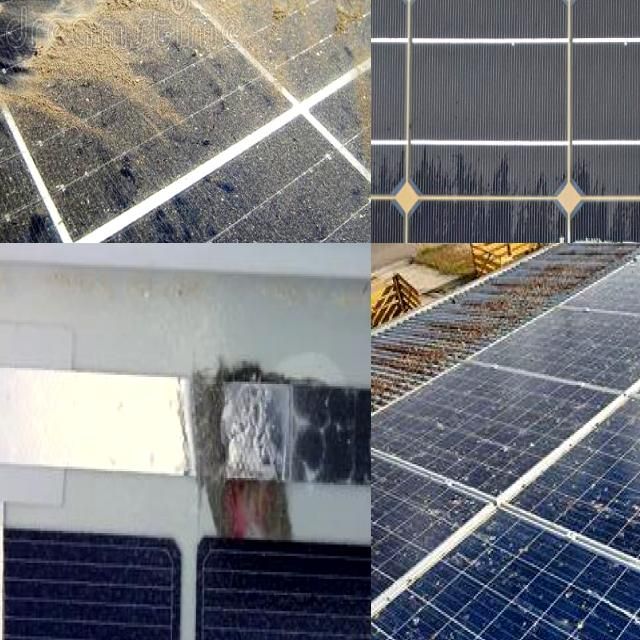bird: (433, 528, 530, 592), (593, 470, 640, 530), (398, 582, 438, 638), (556, 598, 604, 640)
dust: (19, 0, 173, 137), (0, 0, 78, 243), (83, 0, 318, 79), (6, 151, 195, 243), (205, 159, 331, 243), (0, 0, 117, 89), (186, 0, 308, 61), (322, 0, 371, 149)
shadow: (173, 322, 360, 562)
